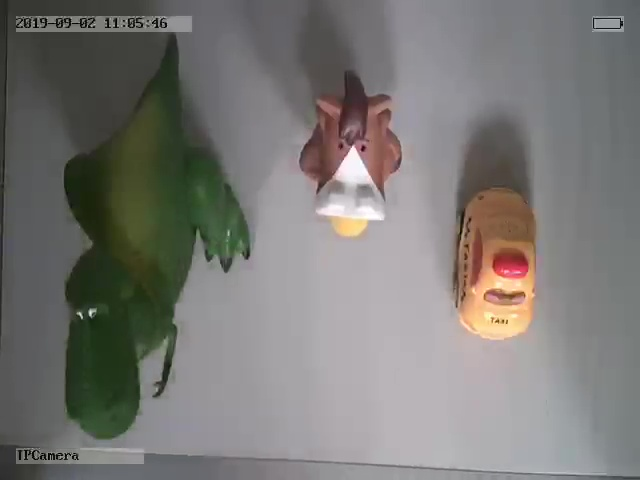car: (453, 183, 540, 343)
horse: (296, 70, 403, 240)
rex: (62, 51, 251, 440)
